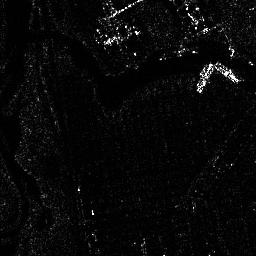ship: (195, 62, 214, 95), (214, 61, 240, 85)
